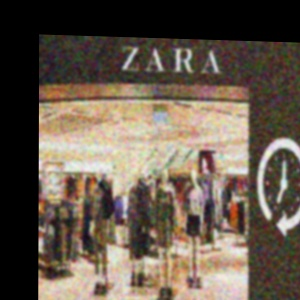zara: (183, 43, 263, 52)
